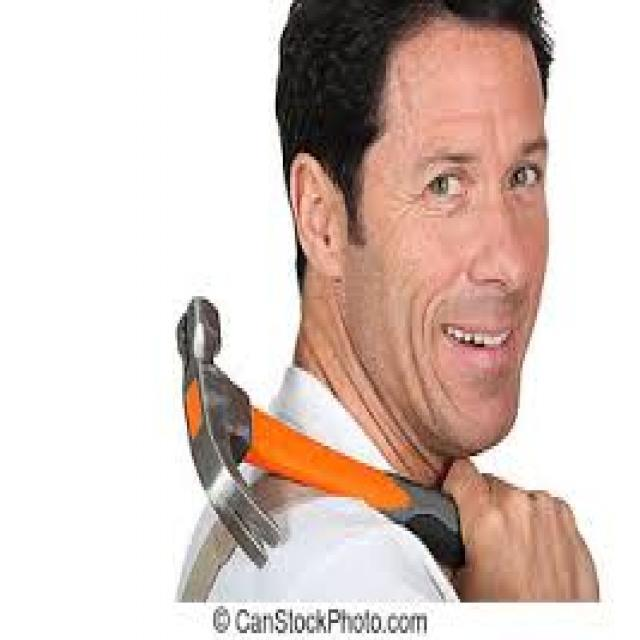hammer: (153, 281, 561, 594)
